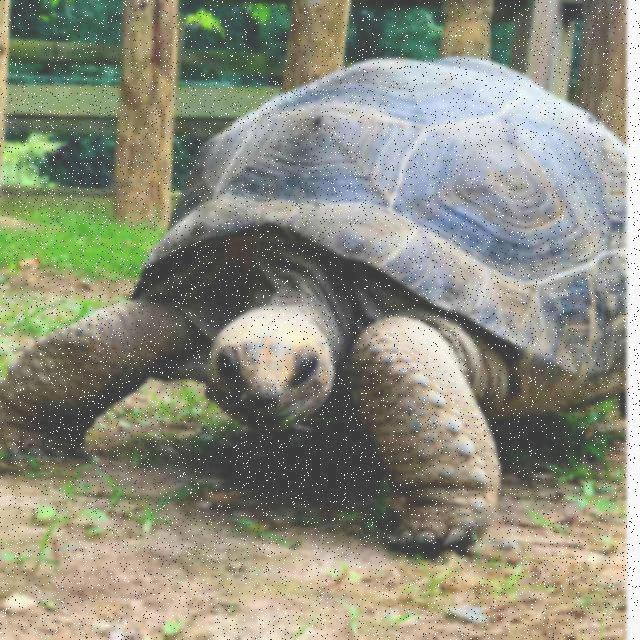tortoise: (6, 51, 640, 556)
